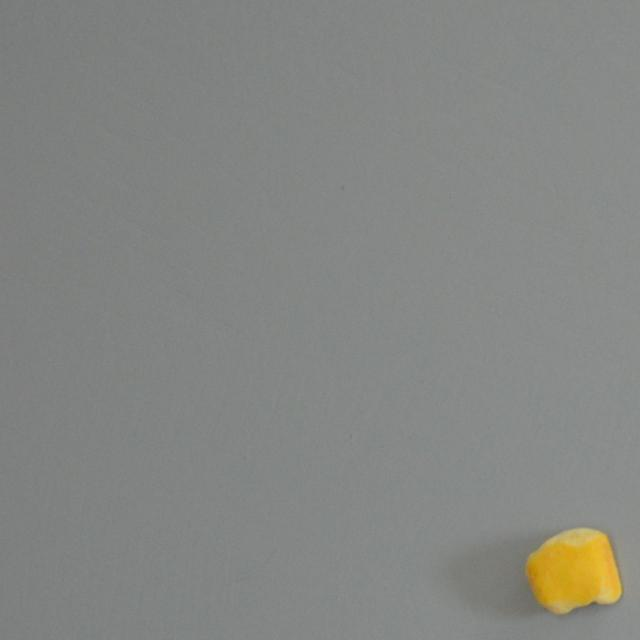dañado: (519, 516, 632, 624)
